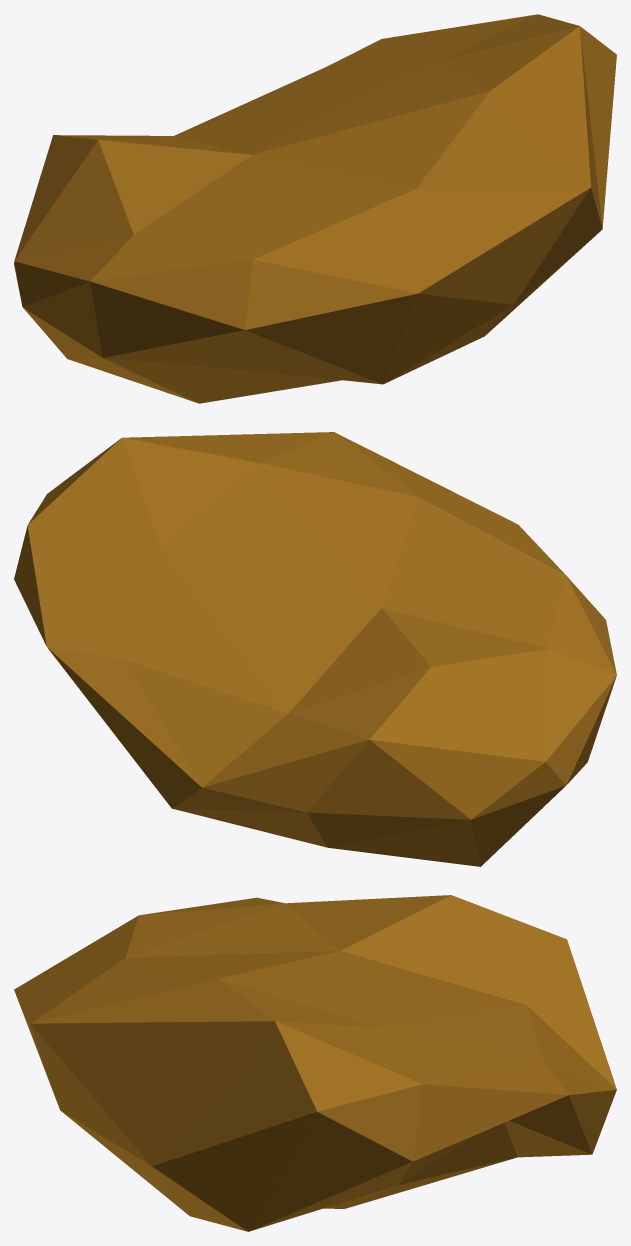
File: gold.fbx
3 renders of one model, top to bottom at view 1: azimuth 30°, elevation 25°; view 2: azimuth 150°, elevation 25°; view 3: azimuth 270°, elevation 25°, orthographic. The views are drawn at different scales.
Visible parts, largest first — view 1: Icosphere; view 2: Icosphere; view 3: Icosphere.
Part boxes in pixels (bbox=[...]): Icosphere: bbox=[14, 14, 616, 403]; Icosphere: bbox=[14, 432, 616, 866]; Icosphere: bbox=[14, 895, 616, 1231].
Bounding box in the file's own units: 99.88 × 49.95 × 86.64.
